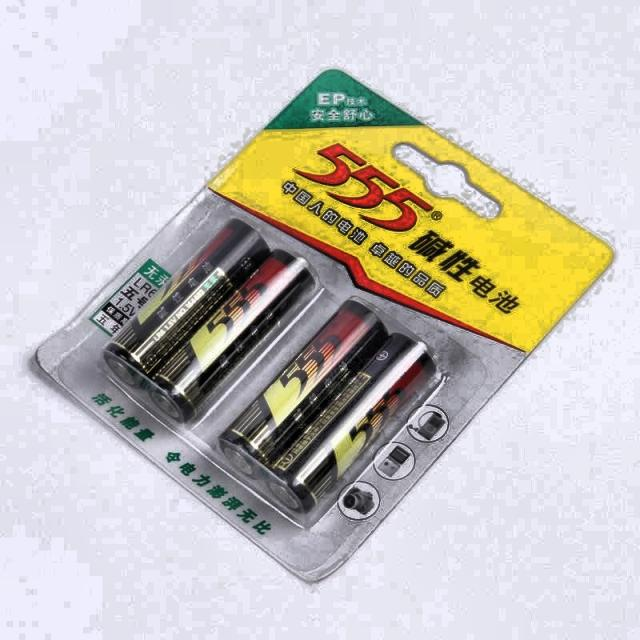Non-Valuable Waste - Batteries: (220, 301, 434, 521), (104, 220, 314, 421)
